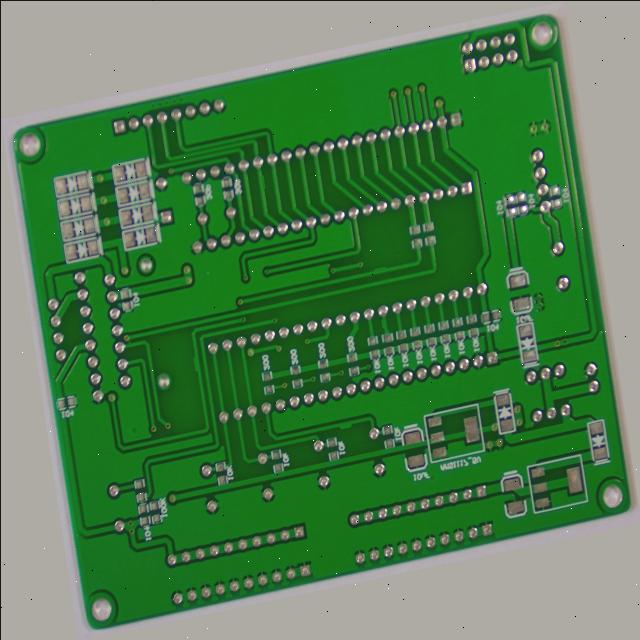spur: (170, 324, 183, 352), (322, 442, 340, 458), (273, 127, 285, 150), (386, 265, 404, 279), (384, 329, 395, 345)
